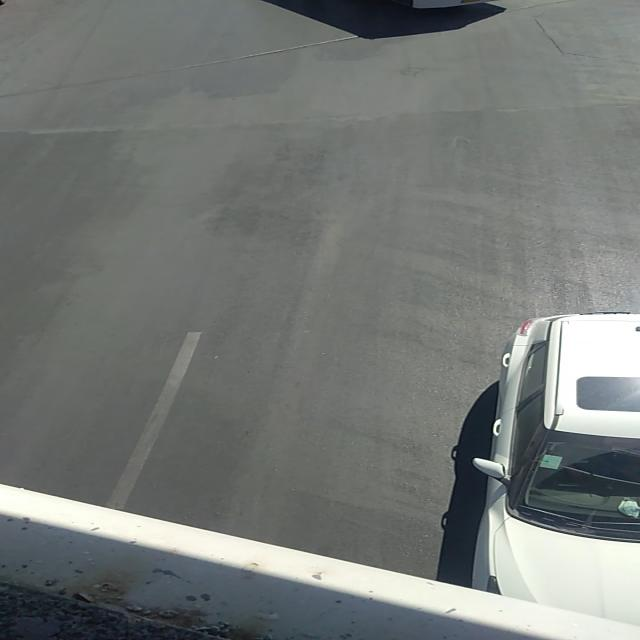car: (470, 310, 639, 624)
